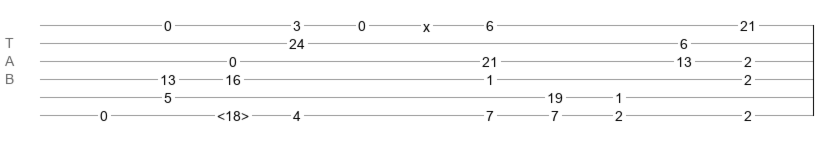0: (100, 108, 108, 118), (164, 18, 172, 28), (229, 54, 237, 64), (358, 18, 366, 28)
1: (486, 72, 494, 82), (615, 90, 623, 100)
13: (160, 72, 176, 82), (676, 54, 692, 64)
16: (225, 72, 241, 82)
19: (547, 90, 563, 100)
2: (615, 108, 623, 118), (744, 72, 752, 82), (744, 108, 752, 118), (744, 54, 752, 64)
21: (482, 54, 498, 64), (740, 18, 756, 28)
24: (289, 36, 305, 46)
3: (293, 18, 301, 28)
4: (293, 108, 301, 118)
5: (164, 90, 172, 100)
6: (486, 18, 494, 28), (680, 36, 688, 46)
7: (486, 108, 494, 118), (551, 108, 559, 118)
harmonic: (217, 108, 249, 118)
x: (423, 19, 430, 27)
